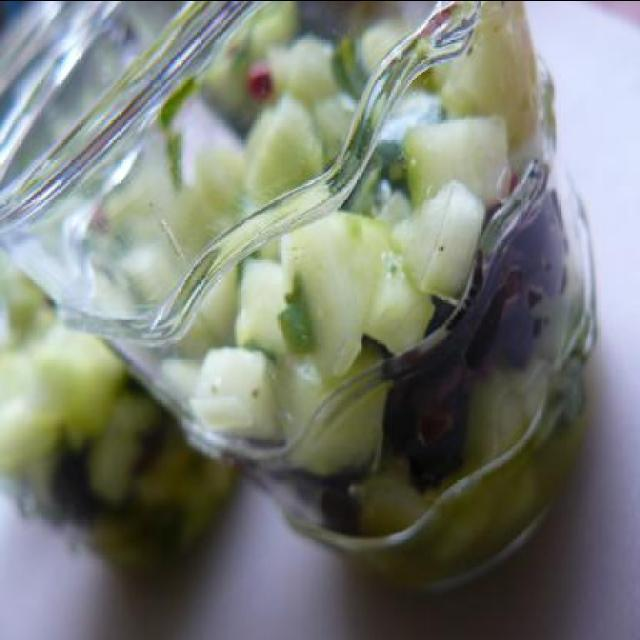Cucumber: (195, 1, 597, 572), (0, 0, 271, 573), (404, 113, 513, 219)
